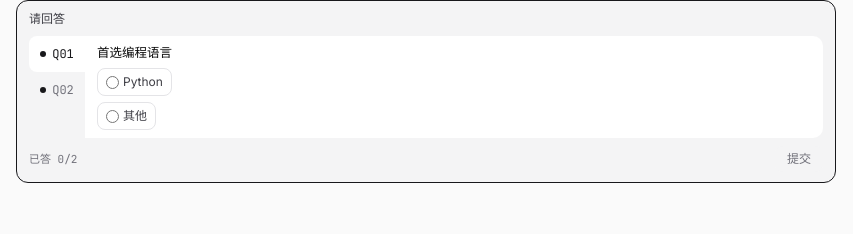
Test: PendingQuestionNav · 单选选中自动前进 › 选「其他」（toggleOther）不自动跳（用户要输入文本）
The width and height of the screenshot is (853, 234).
Click the text "其他" at (126, 116), box [97,102,156,130]
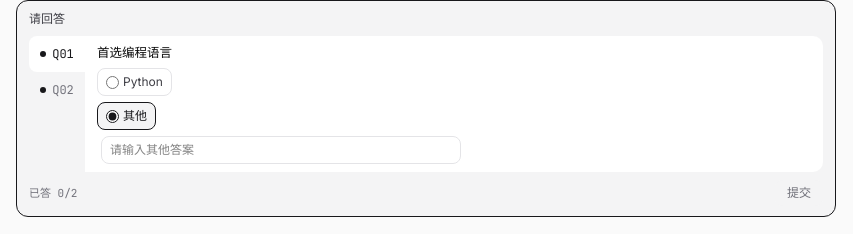
Expected: the text "Python" is shown, [97,68,172,96]
Now the text box with placeholder "请输入其他答案" is shown, box [101,136,461,164]
